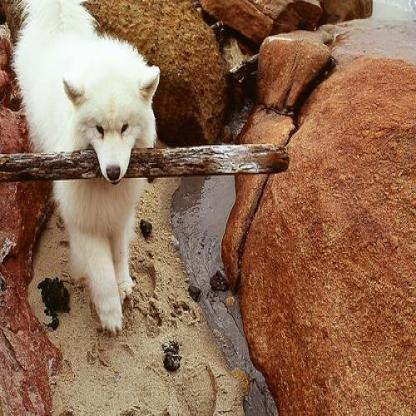Samoyed: (12, 0, 160, 332)
